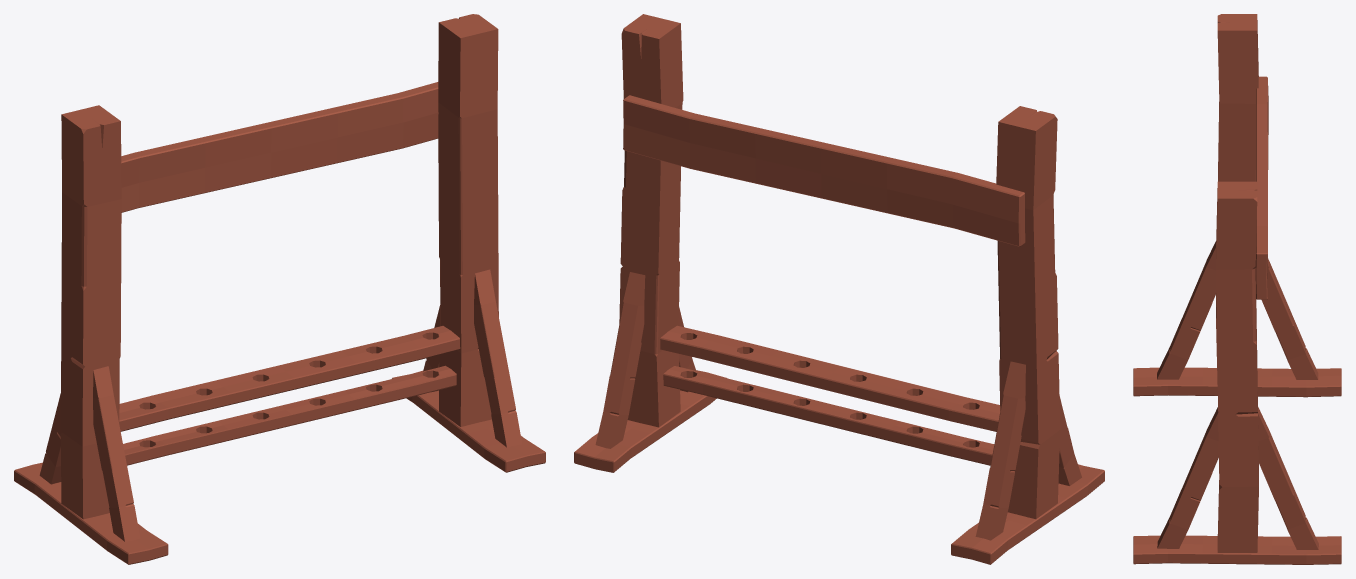
File: spear rack.fbx
3 views of the same model, side by side, from view 1: azimuth 30°, elevation 25°; view 2: azimuth 150°, elevation 25°; view 3: azimuth 270°, elevation 25° (orthographic). The views are drawn at different scales.
Visible parts, largest first — view 1: spear rack; view 2: spear rack; view 3: spear rack.
Part boxes in pixels (x1,y1,x2,y2): spear rack: [14, 14, 545, 564]; spear rack: [574, 14, 1104, 564]; spear rack: [1133, 14, 1341, 564].
Size of the model in its own units: 112 by 102 by 52.51.
